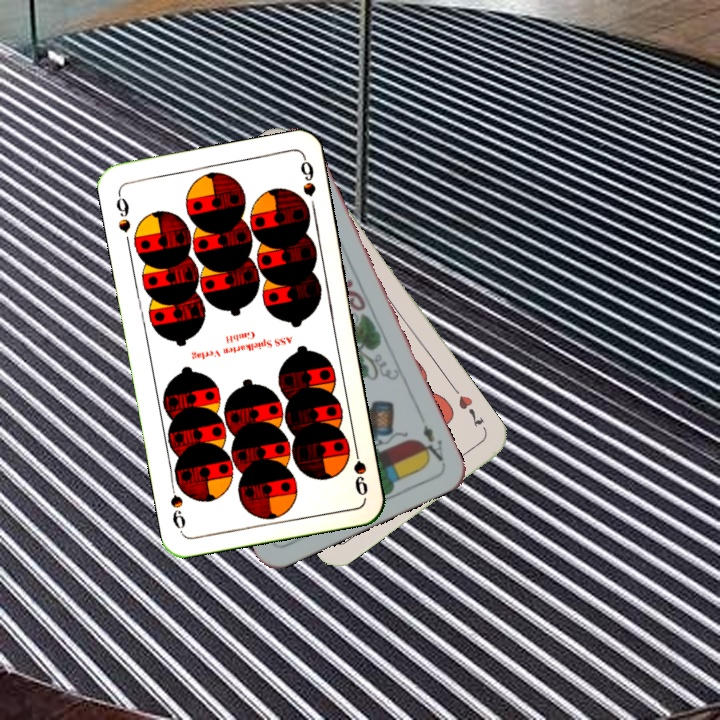EA: (415, 421, 446, 464)
H7: (454, 391, 487, 431)
S9: (349, 439, 371, 499), (112, 188, 134, 235)
